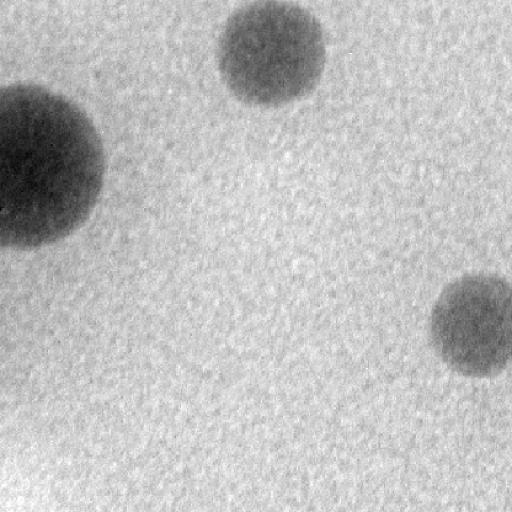Nanoparticles: (0, 81, 106, 249), (218, 0, 326, 110), (428, 268, 512, 379)
